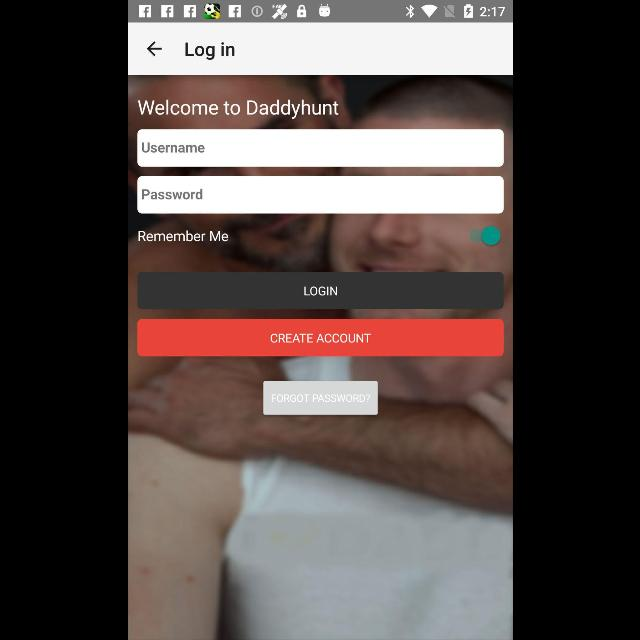backgroundimage: (128, 76, 512, 640)
icon: (146, 42, 160, 56)
input: (136, 129, 504, 167), (136, 176, 504, 214)
switch: (468, 227, 499, 246)
text: (138, 100, 338, 120), (137, 230, 227, 242), (184, 42, 233, 60), (142, 188, 202, 200), (142, 143, 204, 153)
textbutton: (136, 319, 504, 357), (137, 272, 503, 310), (263, 381, 377, 415)
toolbar: (128, 23, 512, 75)
uppertaskbar: (128, 1, 512, 23)
